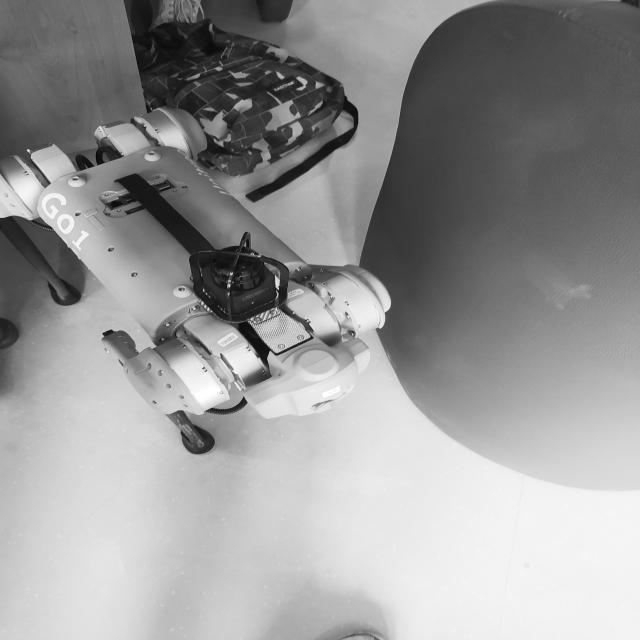unitree-go1-robot: (0, 97, 401, 469)
